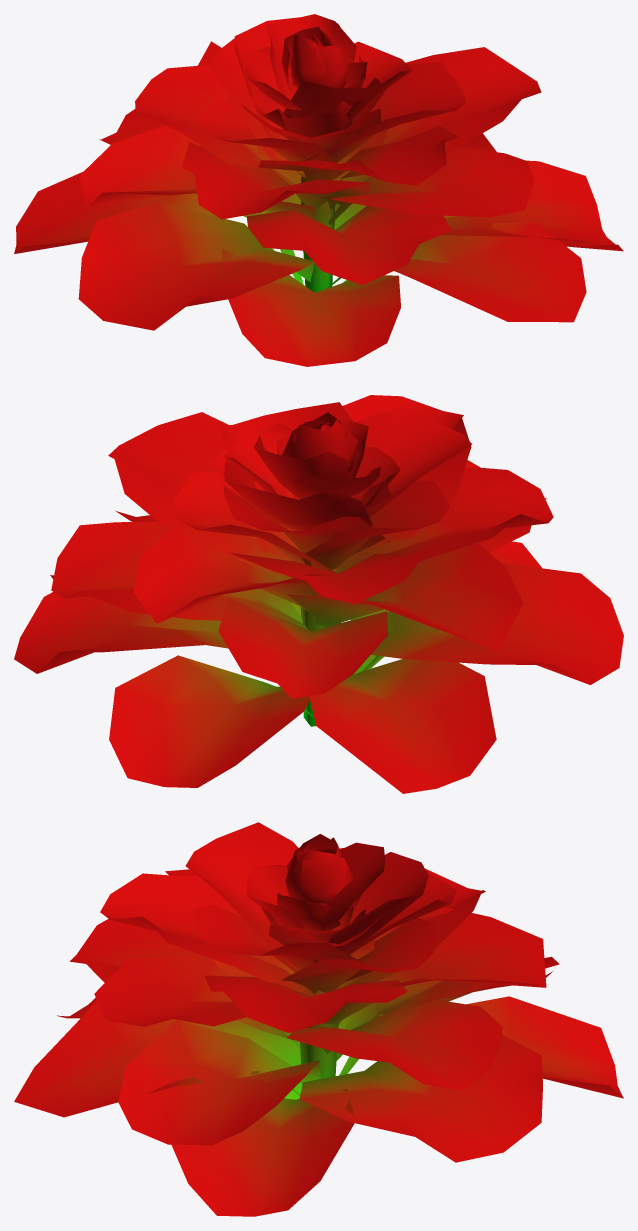
Rendered from Purple Ornamental Kale_LOD3_Var8_ugdieawja.fbx.
3 views of the same model, one above another, from view 1: azimuth 30°, elevation 25°; view 2: azimuth 150°, elevation 25°; view 3: azimuth 270°, elevation 25° (orthographic). The views are drawn at different scales.
Parts seen in each view (by area): view 1: _37c2_Var8_LOD3; view 2: _37c2_Var8_LOD3; view 3: _37c2_Var8_LOD3.
Part boxes in pixels (<box>): _37c2_Var8_LOD3: <box>14,14,623,366</box>; _37c2_Var8_LOD3: <box>14,395,623,793</box>; _37c2_Var8_LOD3: <box>14,822,623,1216</box>.
Size of the model in its own units: 59.51 by 32.27 by 61.16.
